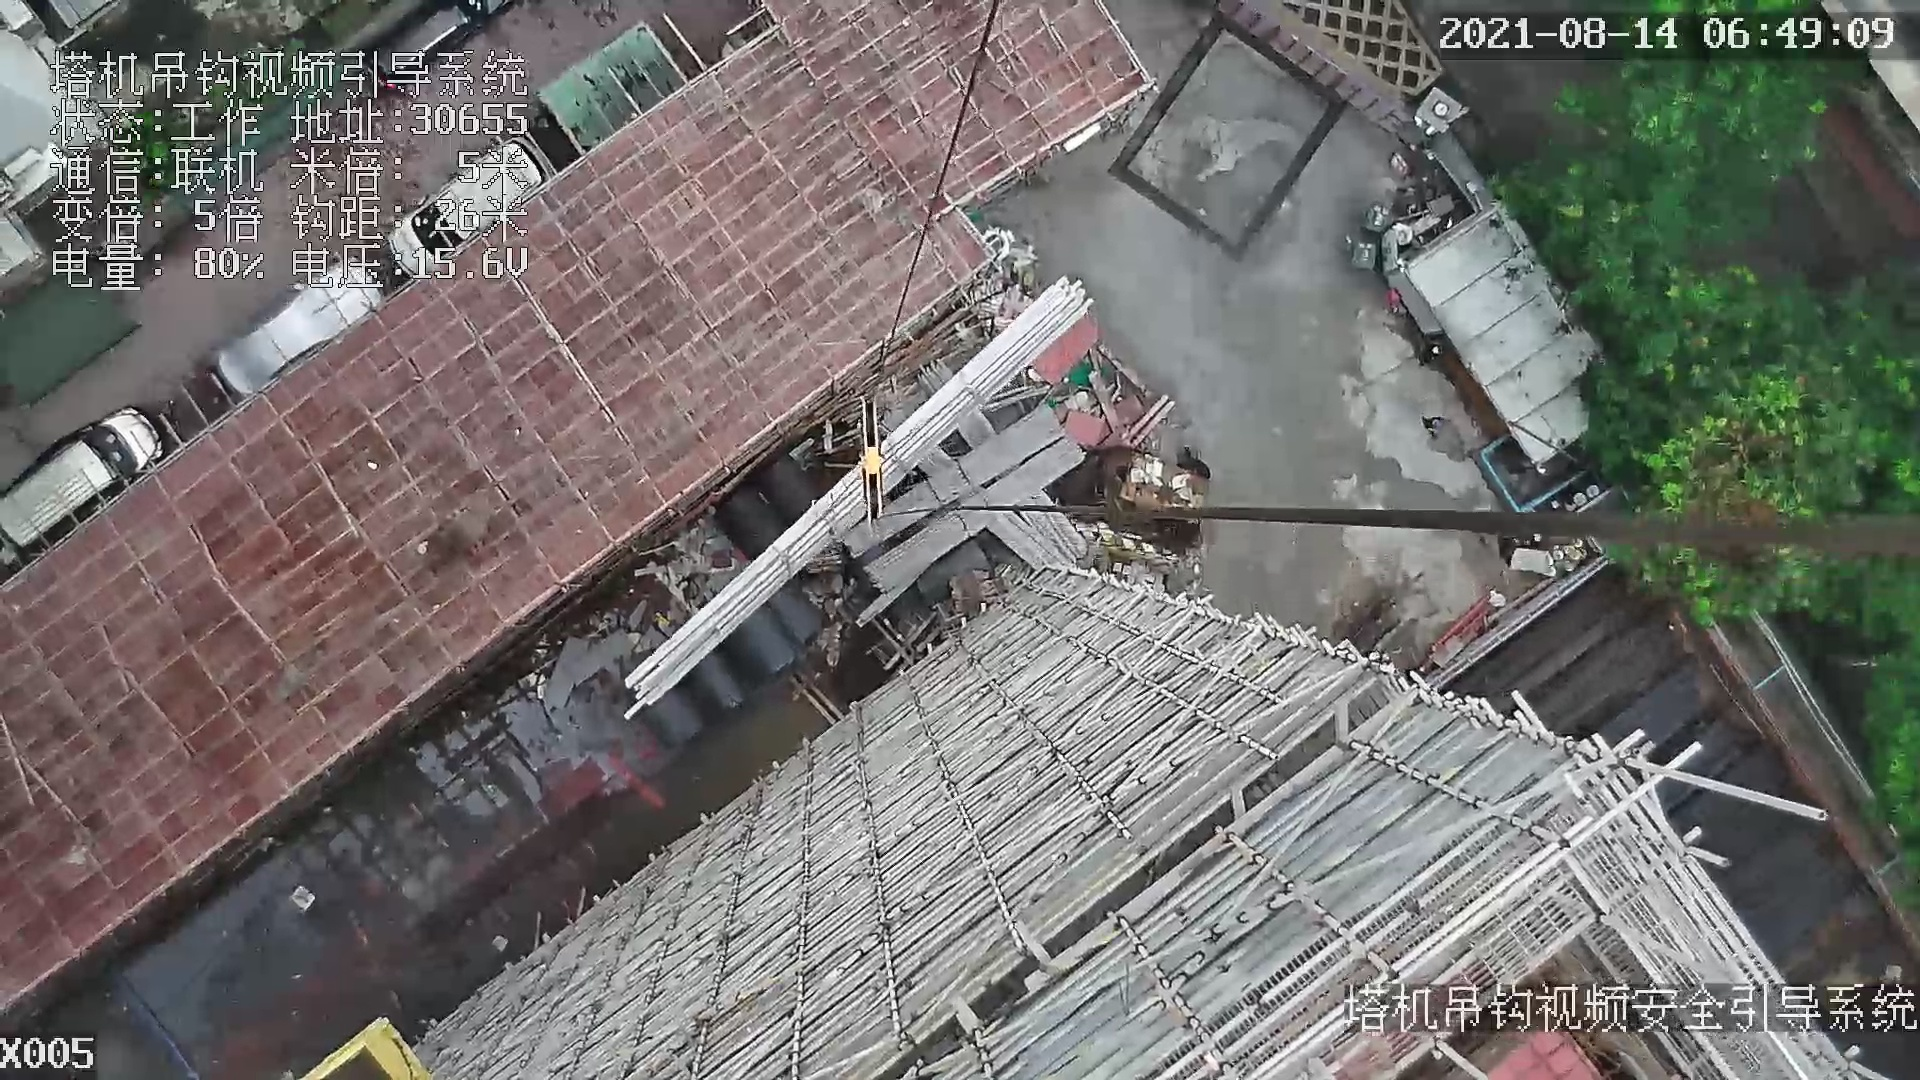hook: (854, 395, 892, 526)
hopper: (1475, 431, 1591, 520)
person: (1419, 411, 1448, 441)
